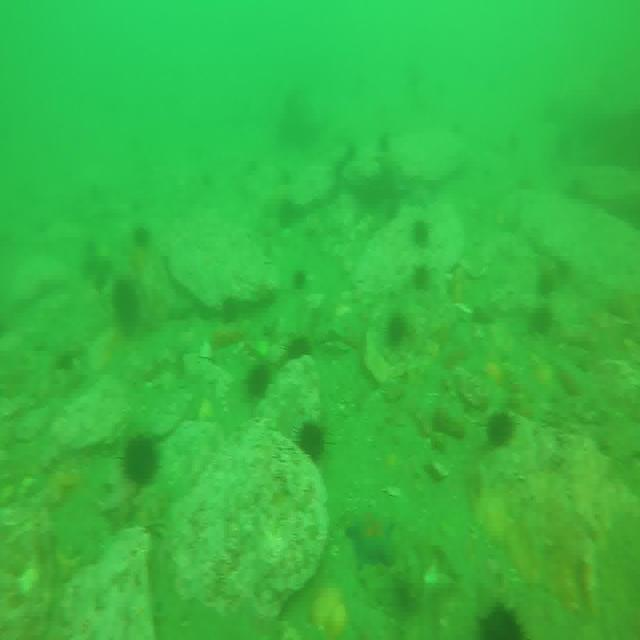echinus: (478, 602, 528, 640), (122, 437, 158, 487), (117, 273, 144, 330), (296, 419, 327, 468), (484, 409, 516, 448), (245, 362, 273, 402), (386, 312, 408, 353), (532, 304, 555, 339), (415, 258, 435, 298), (286, 333, 310, 364), (414, 214, 433, 252), (540, 264, 560, 300), (293, 267, 308, 291)
starfish: (347, 504, 395, 570)
